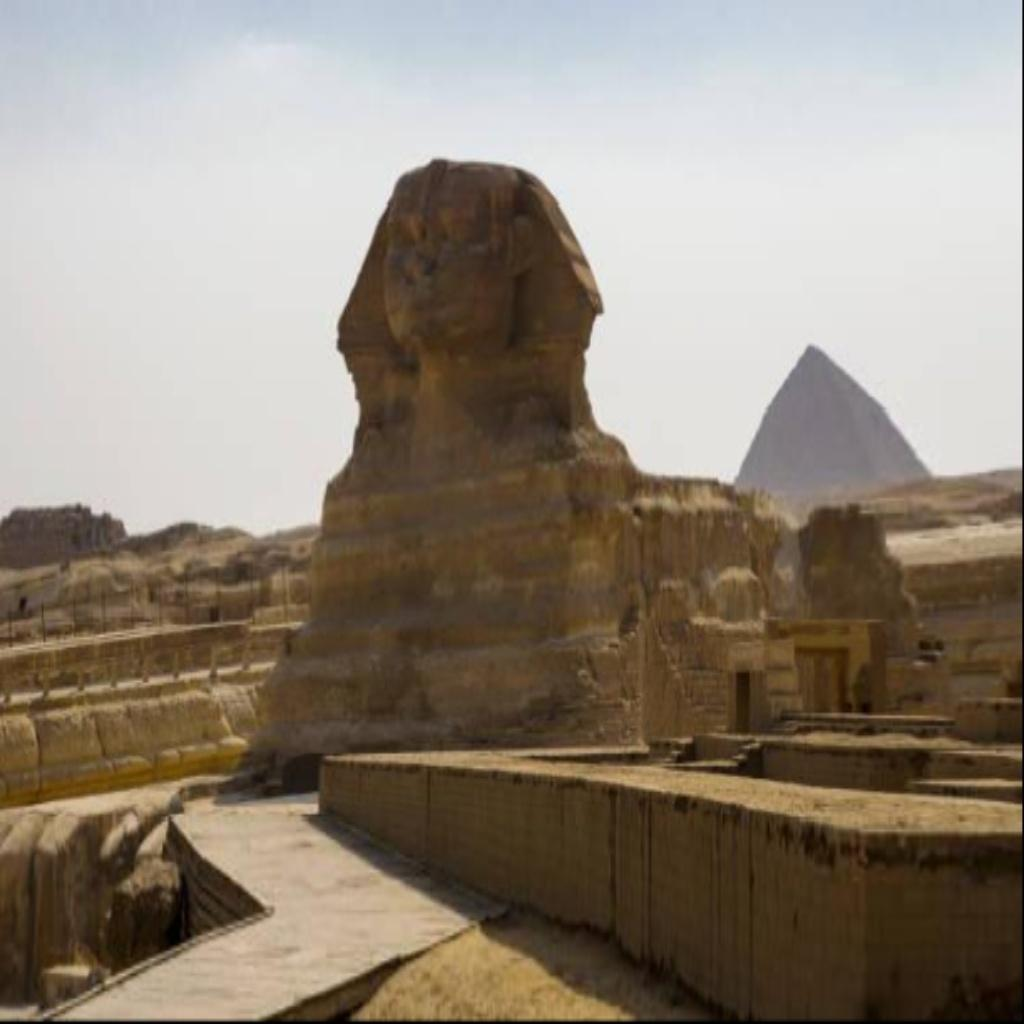Sphinx: (232, 154, 652, 789)
